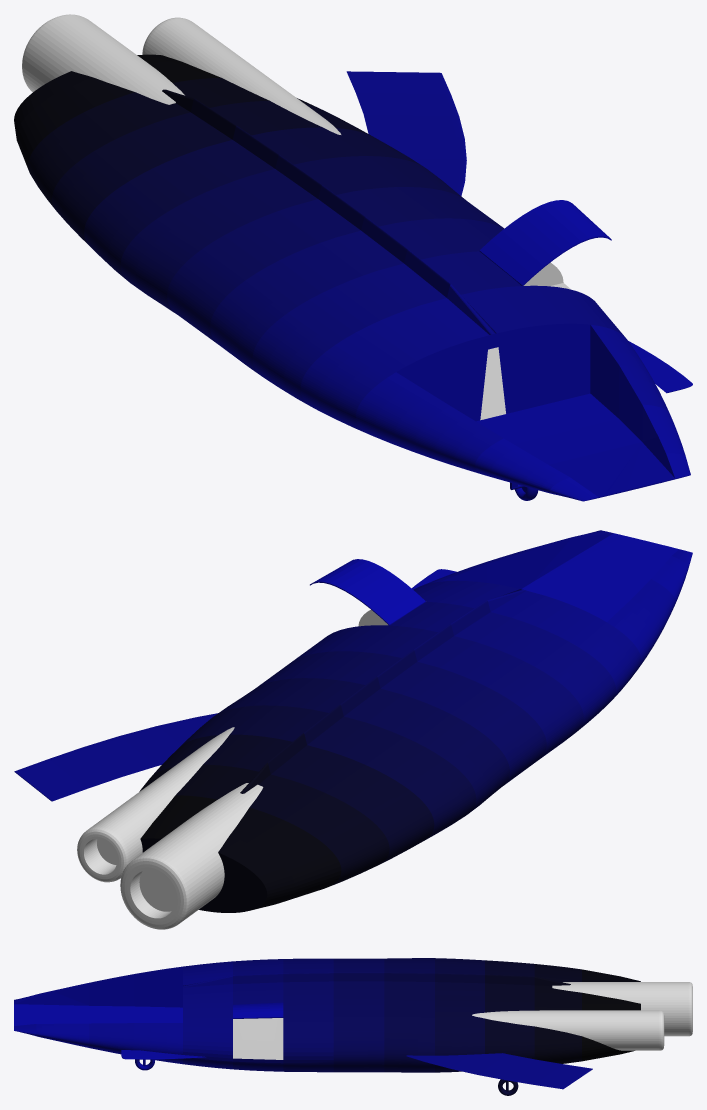
File: starship_a.gltf
3 views of the same model, one above another, from view 1: azimuth 30°, elevation 25°; view 2: azimuth 150°, elevation 25°; view 3: azimuth 270°, elevation 25° (orthographic). The views are drawn at different scales.
Visible parts, largest first — view 1: main, back_wing_left, rocket_center, outer_door, rocket_left, front_wing_left; view 2: main, rocket_center, back_wing_left, rocket_left, outer_door; view 3: main, rocket_left, back_wing_left, rocket_center, outer_door, front_wing_left, tire_chassis_left.
Boxes of the visible parts, <box> form: main: <box>14,54,690,501</box>; back_wing_left: <box>346,71,466,195</box>; rocket_center: <box>22,14,184,104</box>; outer_door: <box>479,200,611,285</box>; rocket_left: <box>142,17,341,134</box>; front_wing_left: <box>628,341,692,393</box>; main: <box>139,530,692,912</box>; rocket_center: <box>120,783,263,929</box>; back_wing_left: <box>14,713,218,801</box>; rocket_left: <box>77,727,234,882</box>; outer_door: <box>310,559,425,625</box>; main: <box>14,958,640,1072</box>; rocket_left: <box>472,1010,664,1050</box>; back_wing_left: <box>406,1053,592,1089</box>; rocket_center: <box>552,982,692,1036</box>; outer_door: <box>233,1002,283,1018</box>; front_wing_left: <box>121,1050,205,1059</box>; tire_chassis_left: <box>498,1079,518,1095</box>.
Bounding box in the file's own units: 45.01 × 17.68 × 105.
